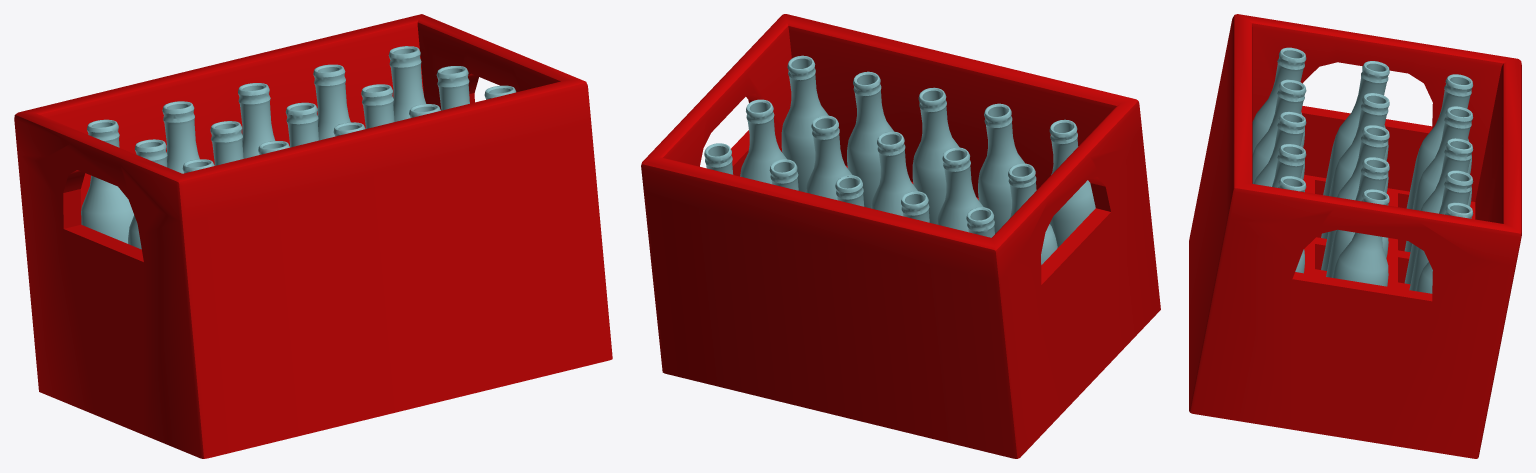
The model's file is Caja botellas.fbx.
3 views of the same model, side by side, from view 1: azimuth 30°, elevation 25°; view 2: azimuth 150°, elevation 25°; view 3: azimuth 270°, elevation 25° (orthographic). The views are drawn at different scales.
Visible parts, largest first — view 1: Caja botellas completa; view 2: Caja botellas completa; view 3: Caja botellas completa.
Boxes of the visible parts, box(x1,y1,x2,y2) form: Caja botellas completa: box(14, 14, 612, 458); Caja botellas completa: box(641, 14, 1160, 458); Caja botellas completa: box(1189, 14, 1521, 458).
Size of the model in its own units: 47.09 by 34.16 by 37.85.
